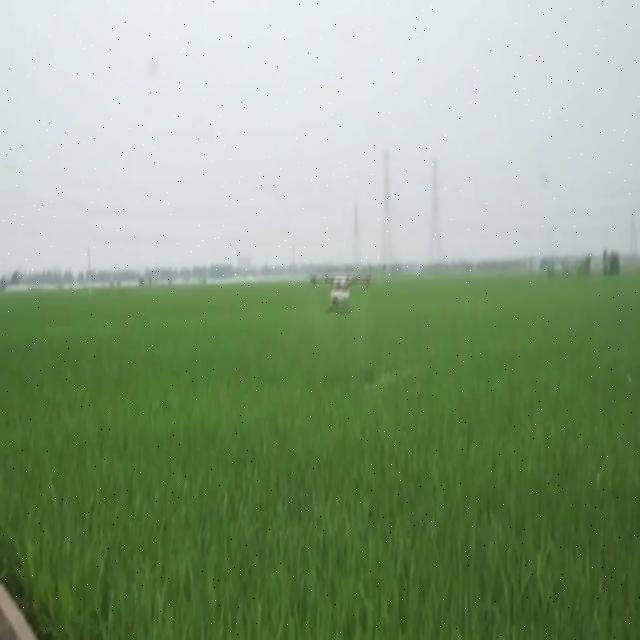UAV: (307, 273, 371, 314)
